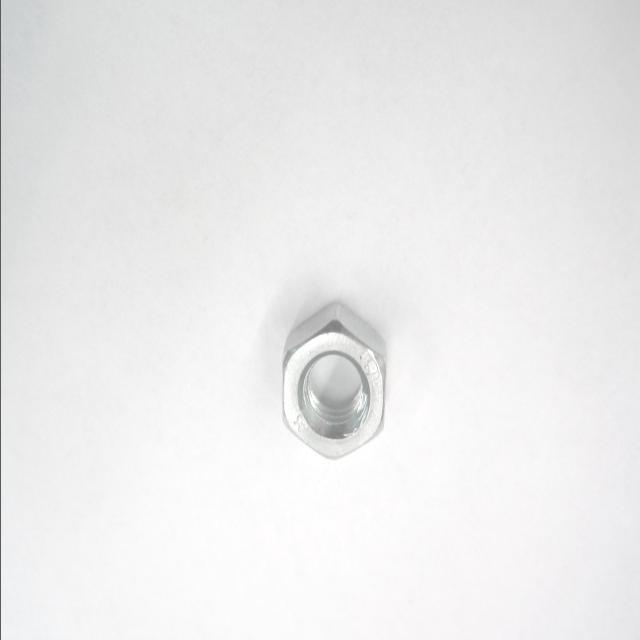Dry Waste: (254, 268, 422, 492)
